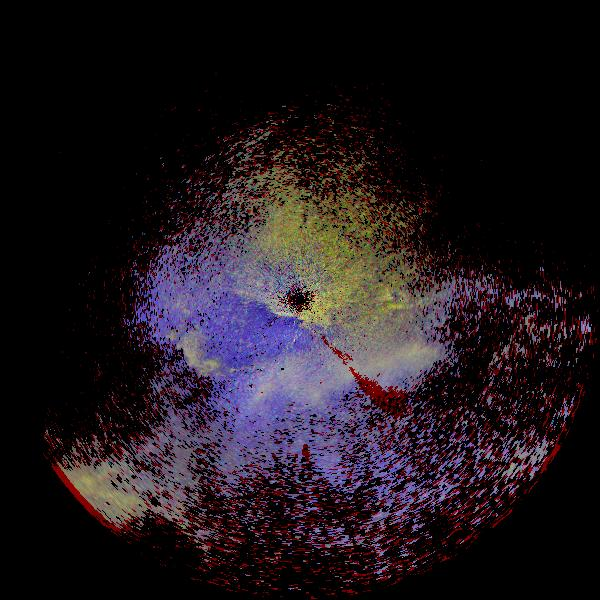roost: (94, 299, 232, 437)
